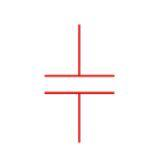Capacitor: (40, 62, 118, 106)
